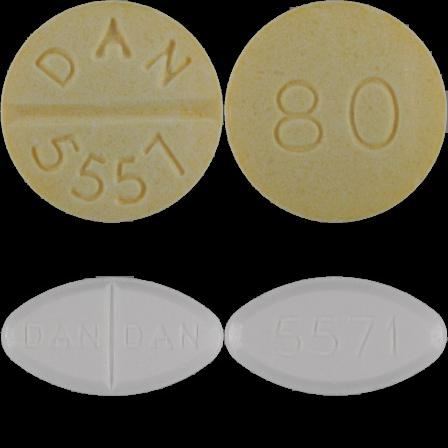0591-5557: (0, 0, 224, 224)
